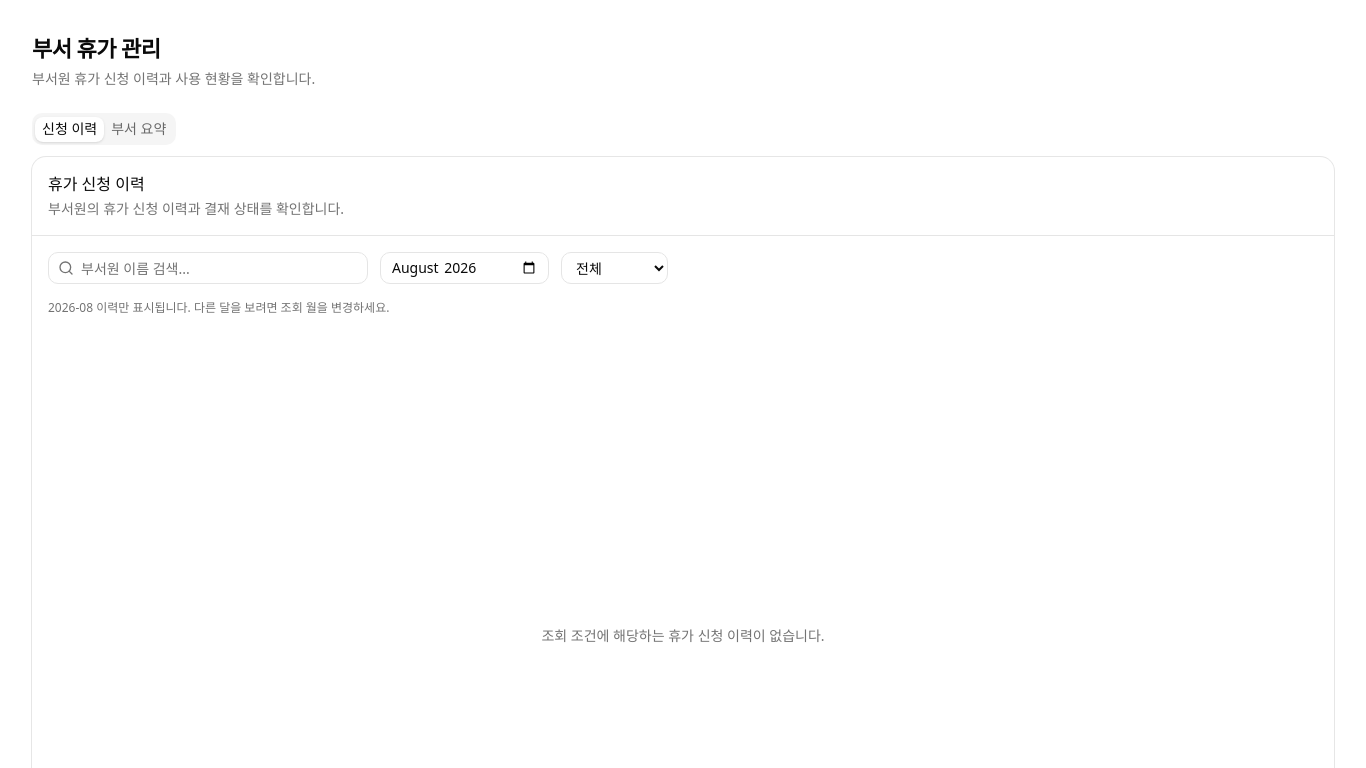
Test: DeptLeavePage (F745/F746) - 탭② 부서 요약 › 탭② 조회 실패 시 에러 토스트가 노출된다
Expected: the text "조회 조건에 해당하는 휴가 신청 이력이 없습니다." is shown, [541,626,825,645]
What coordinates should you click on to do the following:
click the tab "부서 요약"
I would click on:
 (139, 129)
Its box is [104,116,173,142].
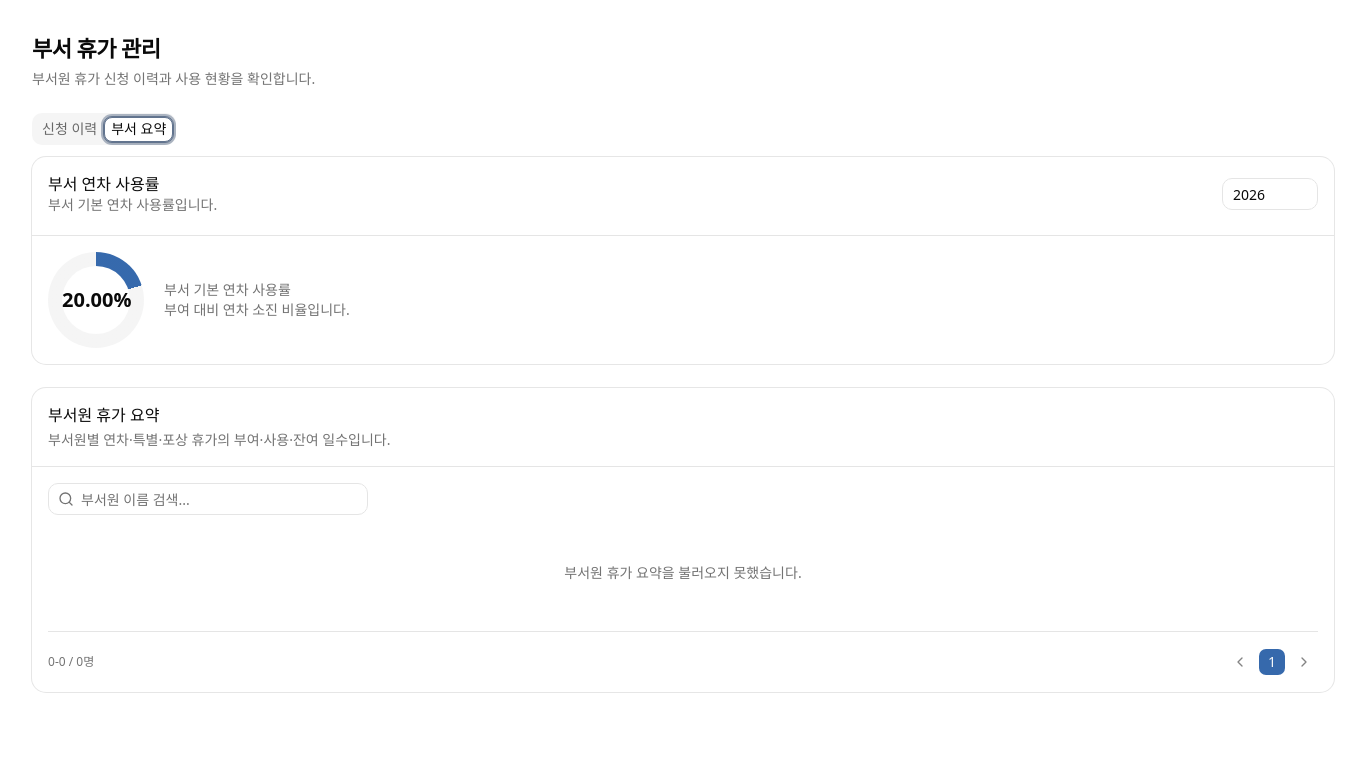
Expected: the text "부서원 휴가 요약을 불러오지 못했습니다." is shown, [564,563,802,582]
